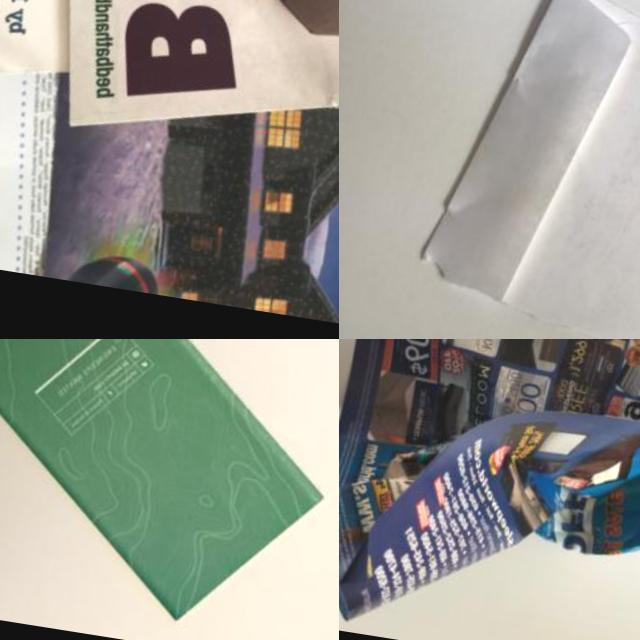papel: (0, 0, 339, 339), (0, 339, 339, 640), (339, 339, 640, 640), (411, 0, 640, 339)
